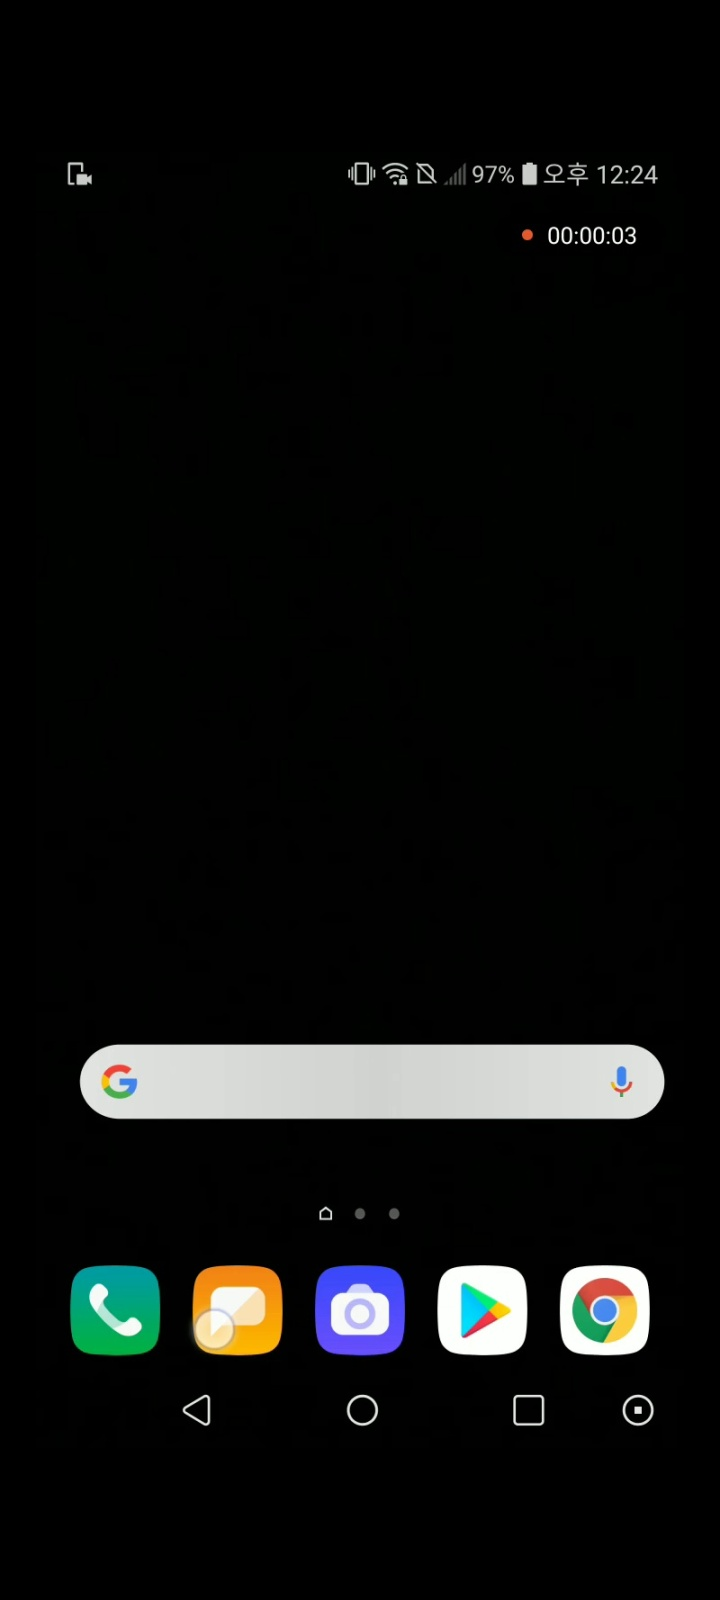Cursor: (193, 1308, 238, 1353)
